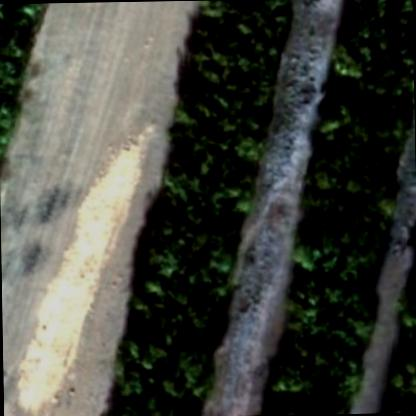Canopy-Citrus: (178, 32, 283, 126), (291, 195, 394, 281), (158, 136, 261, 218), (280, 276, 377, 355), (260, 348, 364, 414), (131, 280, 231, 348), (143, 213, 235, 284), (314, 94, 412, 154), (113, 346, 214, 404), (330, 36, 413, 106), (301, 150, 400, 202), (191, 0, 296, 47), (344, 0, 413, 41), (0, 2, 50, 53), (94, 396, 202, 415), (383, 360, 415, 414), (0, 51, 25, 115), (0, 111, 15, 161)
